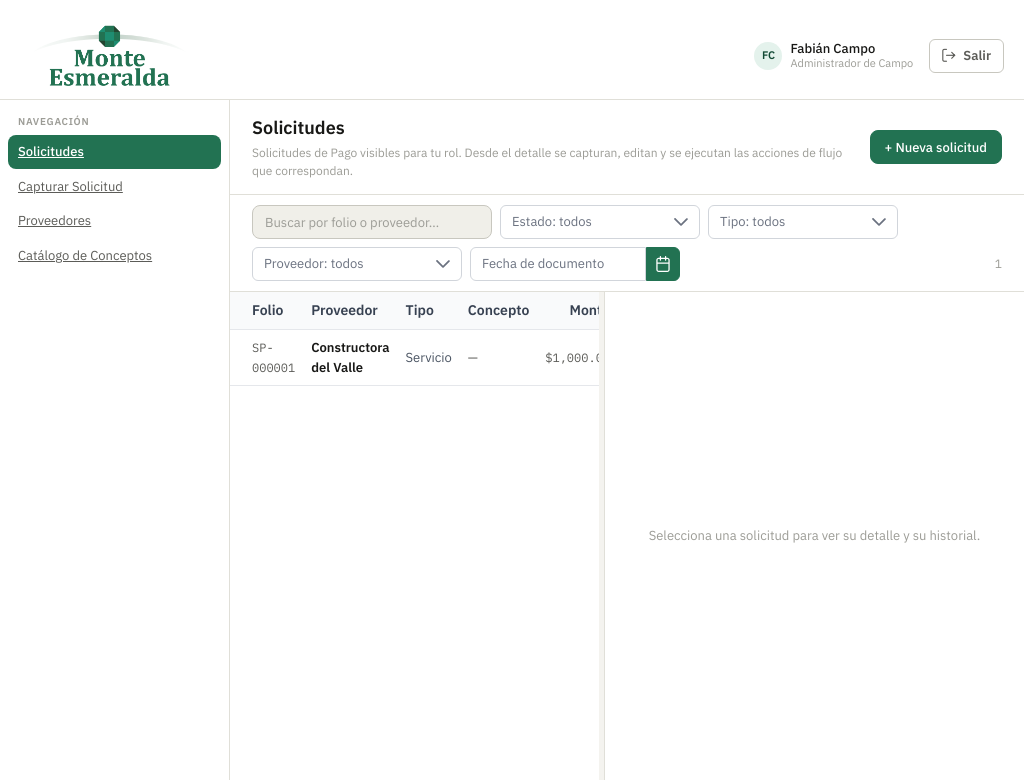
Test: borrador (dueño): solo Enviar y Cancelar
Click the text "SP-000001" at (263, 348), box left=252, top=340, right=295, bottom=374
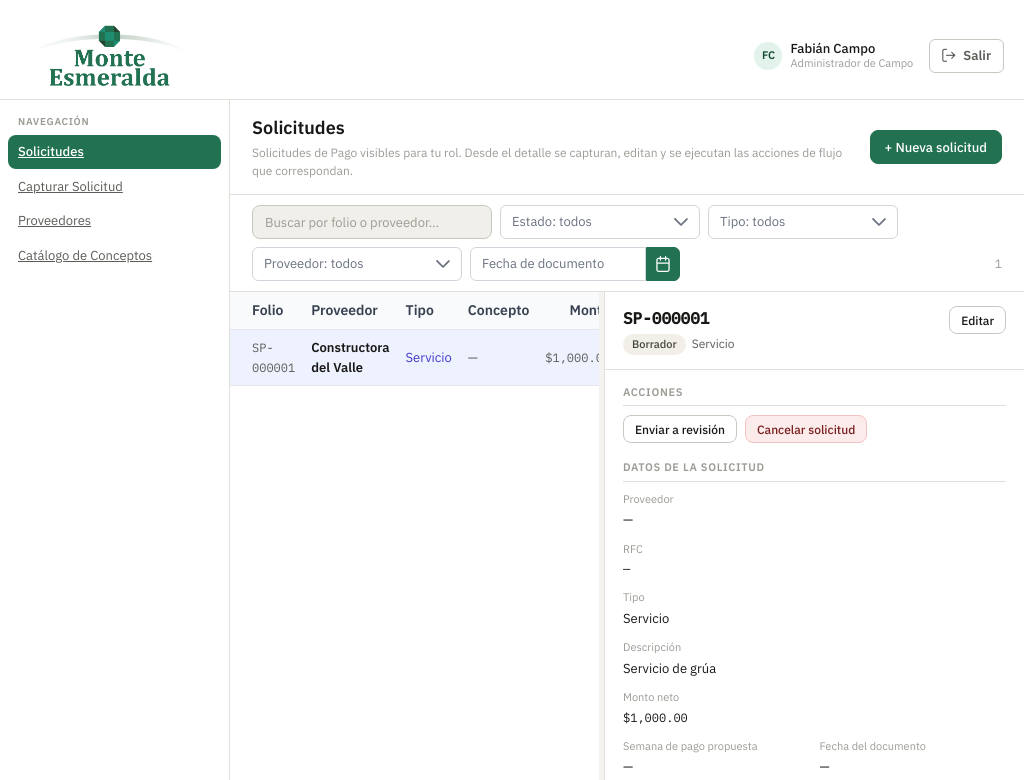
Expected: the text "Acciones" is shown, left=623, top=384, right=1006, bottom=406
